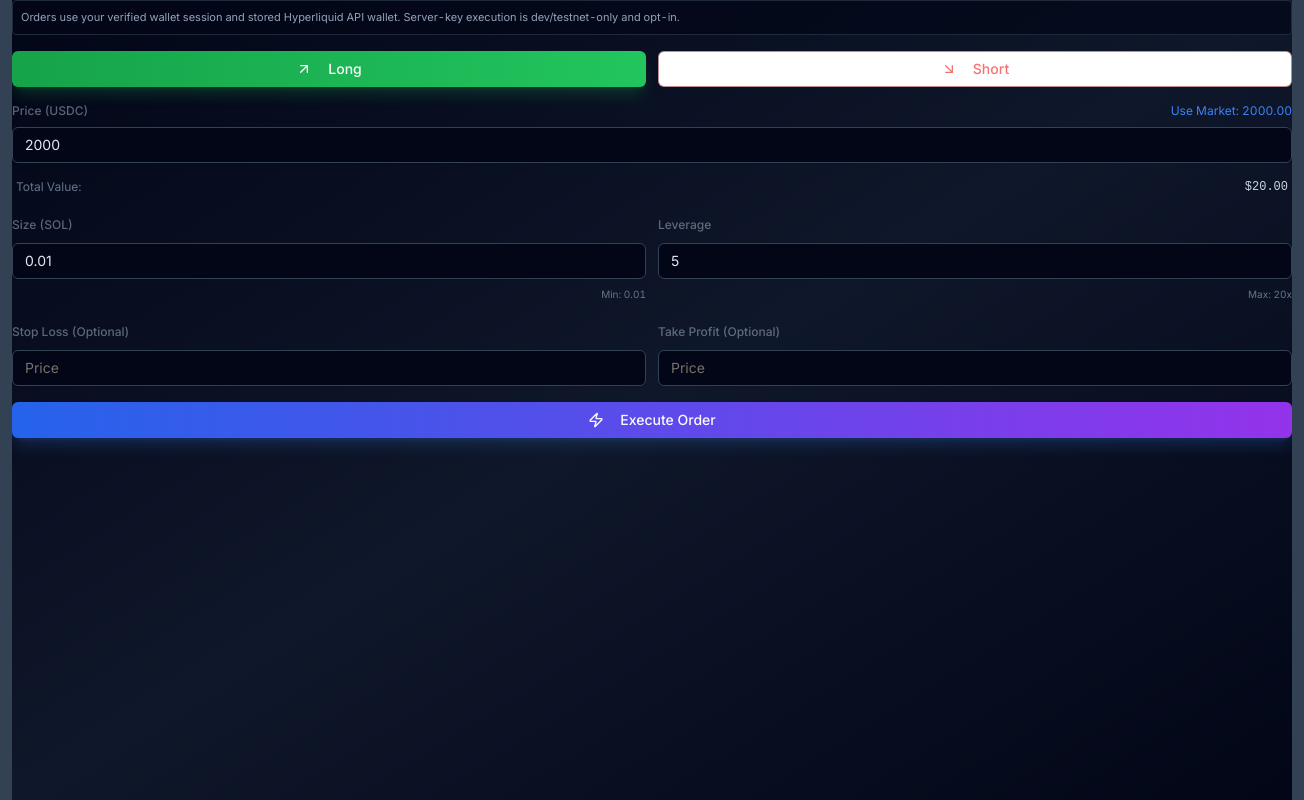
TradeForm › displays error when placeOrder fails
Click the button "Execute Order": click(652, 420) [12, 402, 1292, 438]
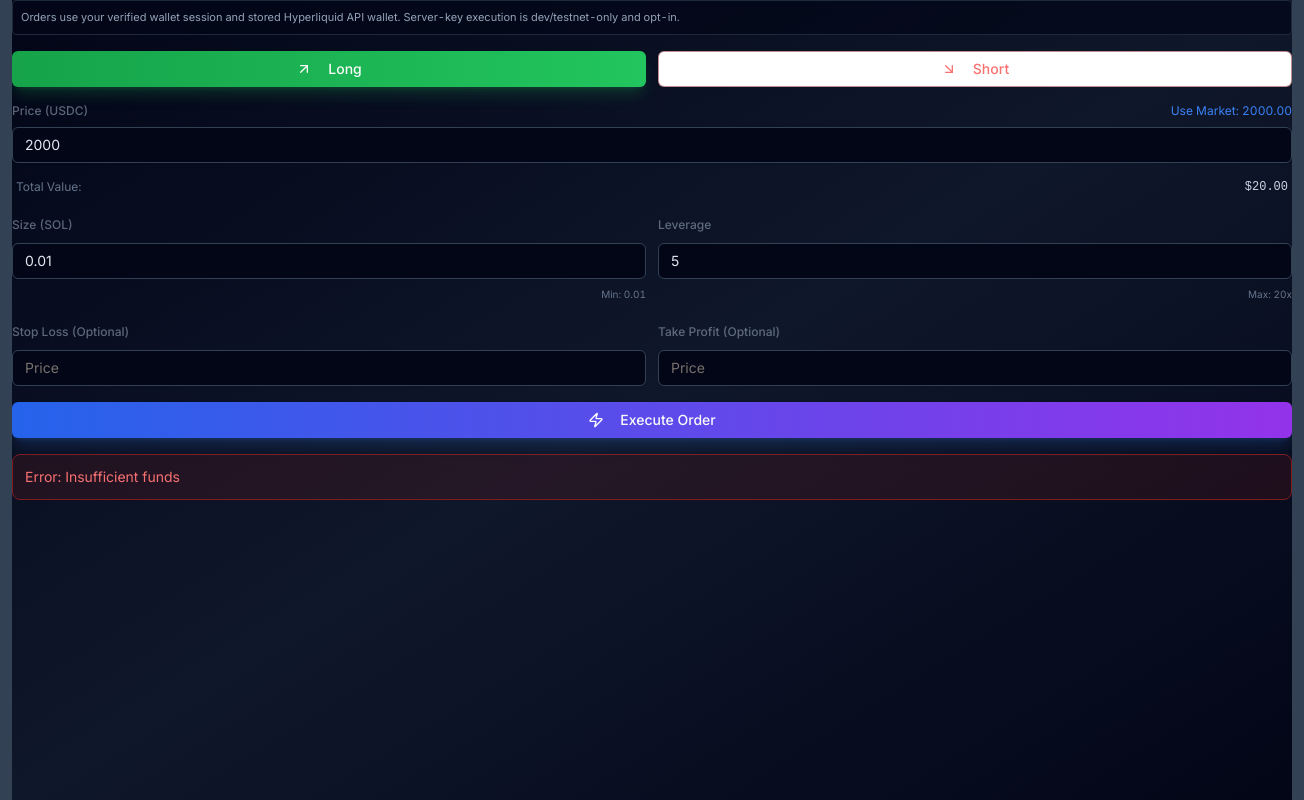
expect the text "Error: Insufficient funds" is shown: met, box [25, 468, 180, 484]
